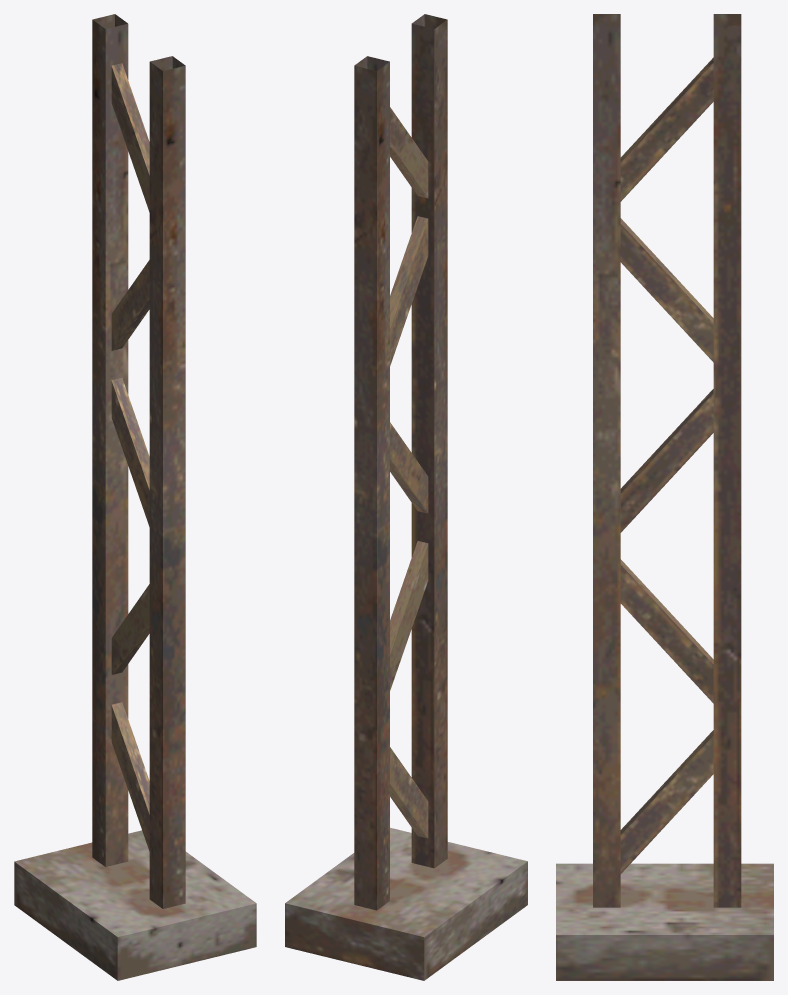
Rendered from Bridge_support.fbx.
3 renders of one model, left to right at view 1: azimuth 30°, elevation 25°; view 2: azimuth 150°, elevation 25°; view 3: azimuth 270°, elevation 25°, orthographic. The views are drawn at different scales.
Visible parts, largest first — view 1: Bridge_support; view 2: Bridge_support; view 3: Bridge_support.
Part boxes in pixels (box(x1,y1,x2,y2)): Bridge_support: box(14, 14, 256, 980); Bridge_support: box(285, 14, 527, 980); Bridge_support: box(556, 14, 773, 980).
Size of the model in its own units: 85.97 by 521 by 111.
